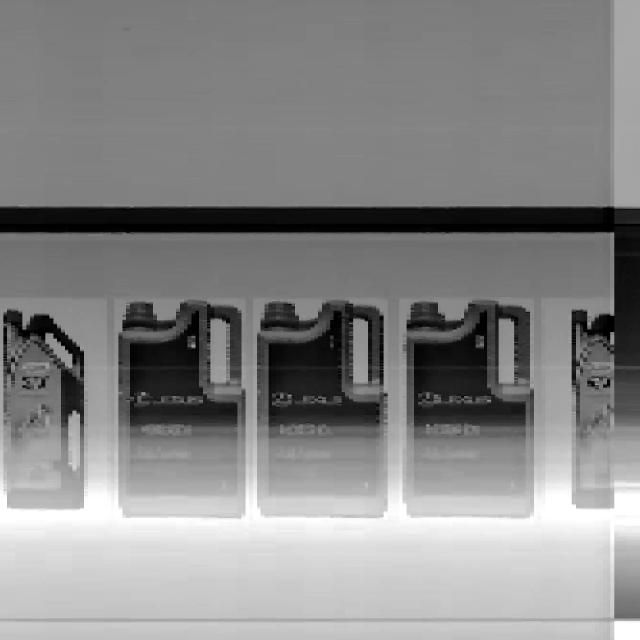motor_oil: (400, 296, 536, 520), (115, 293, 246, 524), (256, 299, 389, 518), (2, 305, 86, 514)
